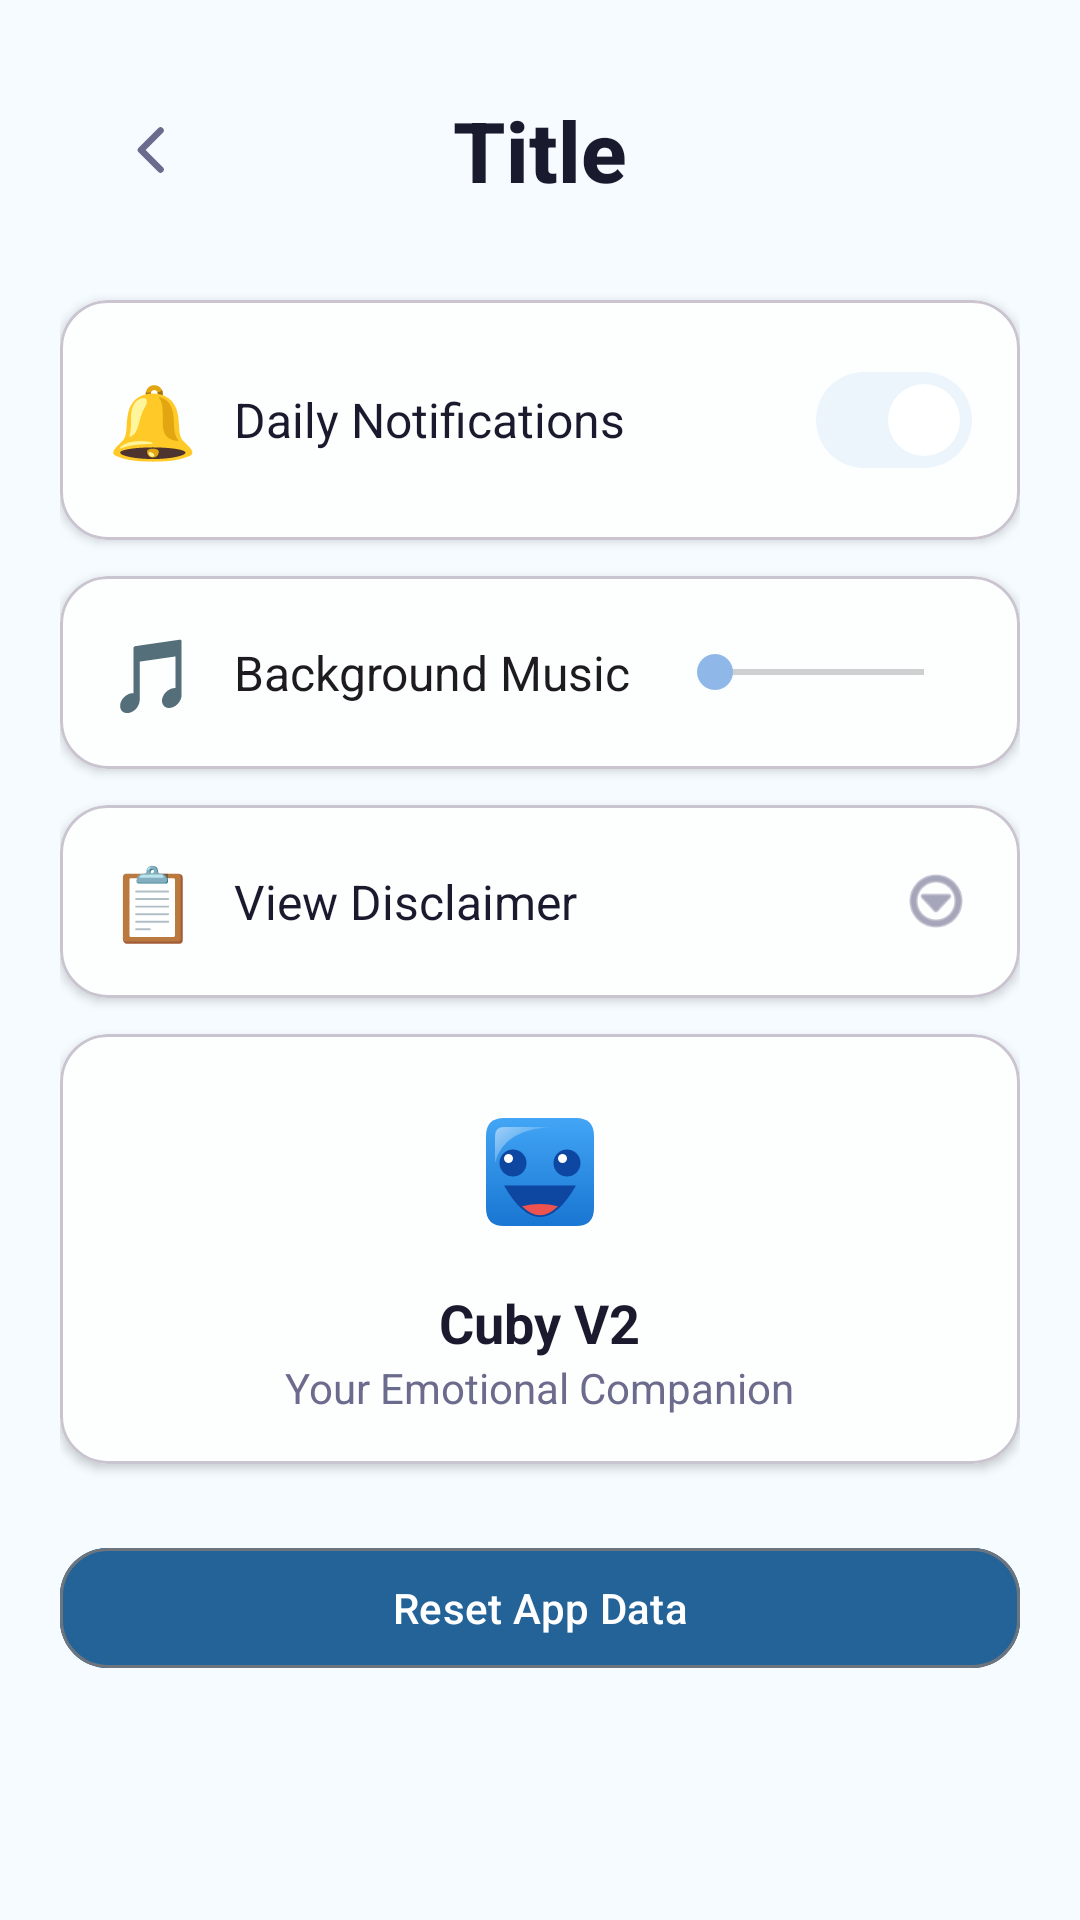

Icon click points for this 1080 x 1920 phone screenshot, format (x=x, y=y):
Back: (x=150, y=150)
cuby idle: (x=540, y=1172)
more: (x=936, y=901)
